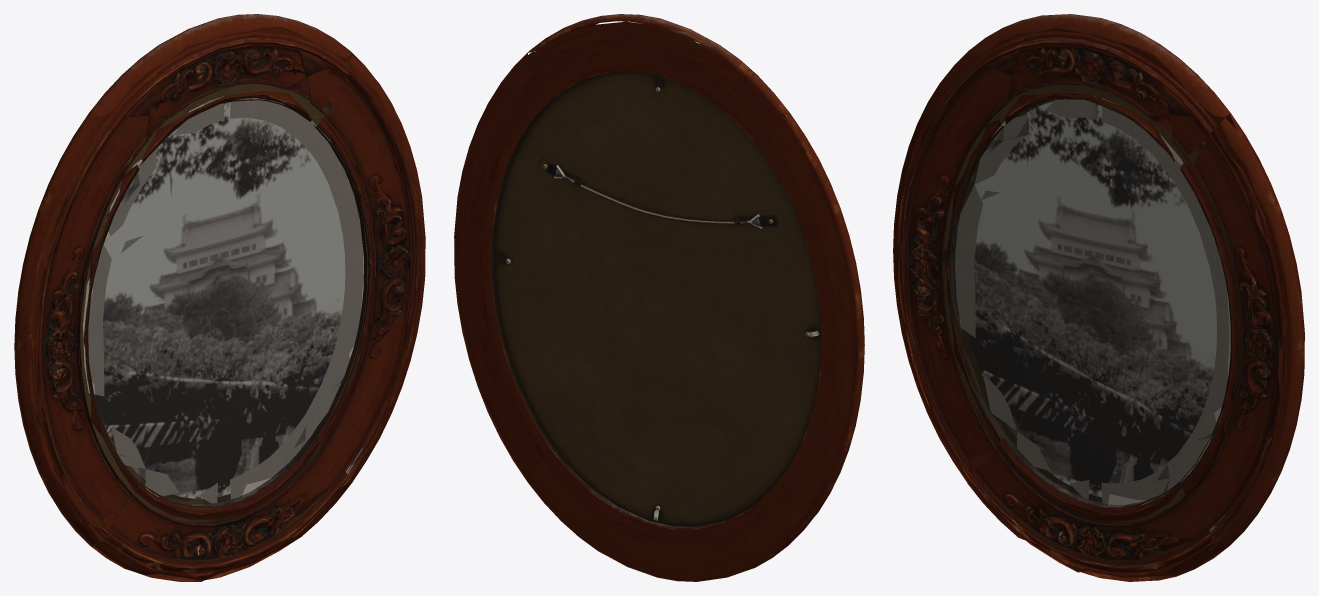
Rendered from hanging_picture_frame_03_lod.gltf.
The picture shows the model from 3 angles, left to right: view 1: azimuth 30°, elevation 25°; view 2: azimuth 150°, elevation 25°; view 3: azimuth 330°, elevation 25°; orthographic projection.
Visible parts, largest first — view 1: hanging_picture_frame_03, hanging_picture_frame_03_glass; view 2: hanging_picture_frame_03; view 3: hanging_picture_frame_03, hanging_picture_frame_03_glass.
Part boxes in pixels (<box>): hanging_picture_frame_03: <box>14,14,425,581</box>; hanging_picture_frame_03_glass: <box>86,97,363,504</box>; hanging_picture_frame_03: <box>454,14,864,581</box>; hanging_picture_frame_03: <box>893,14,1304,581</box>; hanging_picture_frame_03_glass: <box>954,93,1229,505</box>.
Size of the model in its own units: 0.3845 by 0.5024 by 0.0318.
3 materials, 2 textured.
